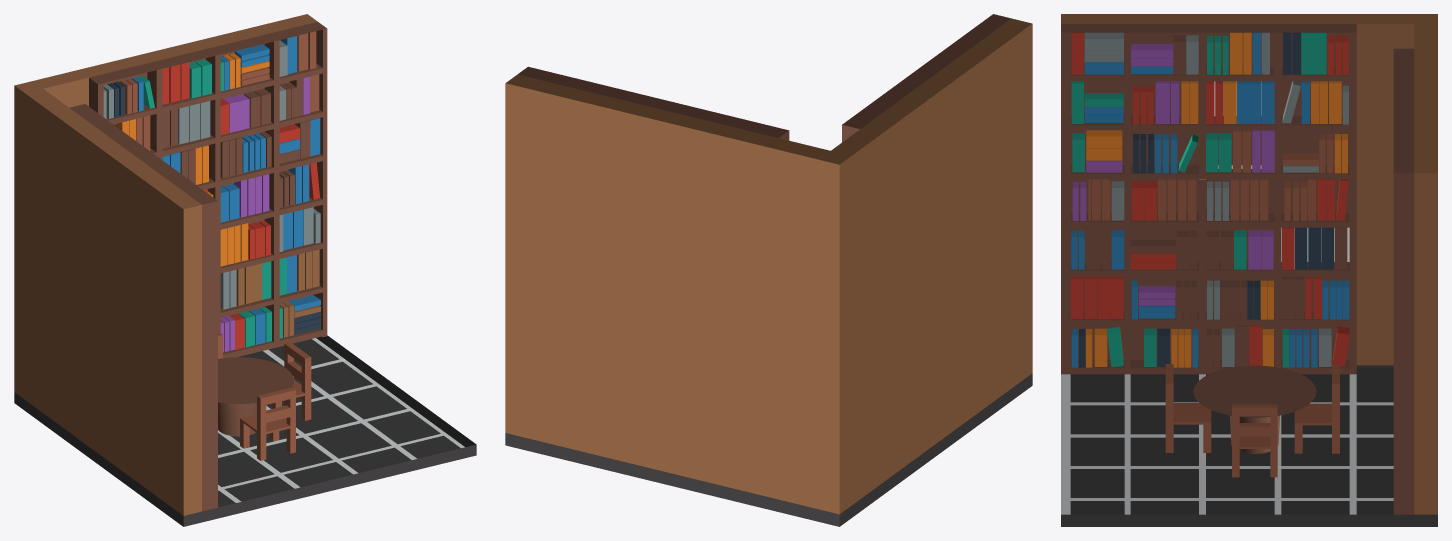
The model's file is the_big_library.obj.
3 views of the same model, side by side, from view 1: azimuth 30°, elevation 25°; view 2: azimuth 150°, elevation 25°; view 3: azimuth 270°, elevation 25° (orthographic). The views are drawn at different scales.
Parts seen in each view (by area): view 1: obj2; view 2: obj2; view 3: obj2, obj1.
Boxes of the visible parts, x1,y1,x2,y2 form: obj2: (14,14,476,526); obj2: (505,14,1032,526); obj2: (1061,14,1437,526); obj1: (1199,81,1349,468).
Bounding box in the file's own units: 2.28 × 2.36 × 2.28.
2 materials, 1 textured.
